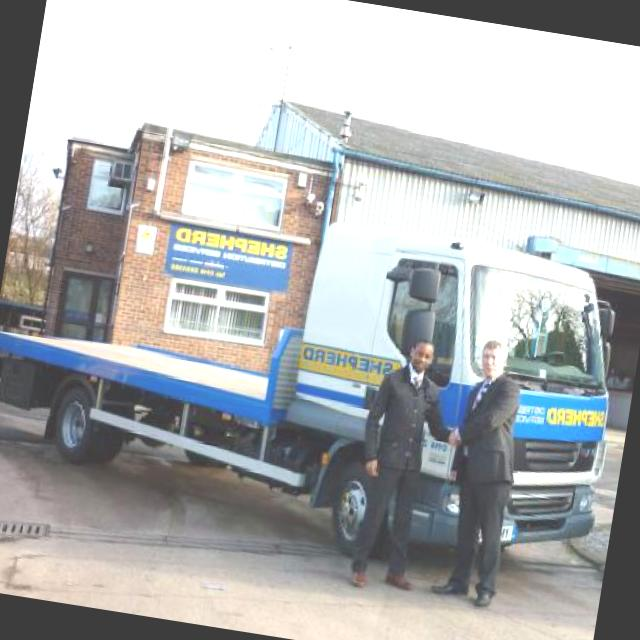Person: (339, 332, 469, 600), (425, 336, 534, 610)
